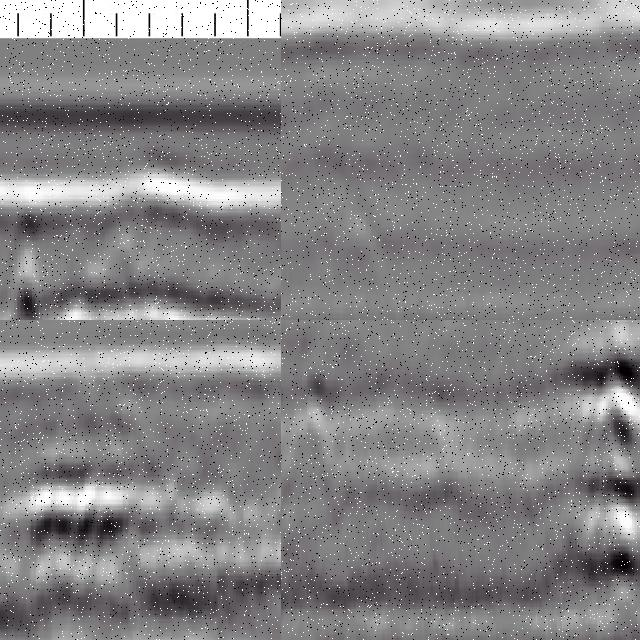crack: (5, 207, 46, 321)
loose: (560, 321, 640, 635), (9, 439, 150, 579)
